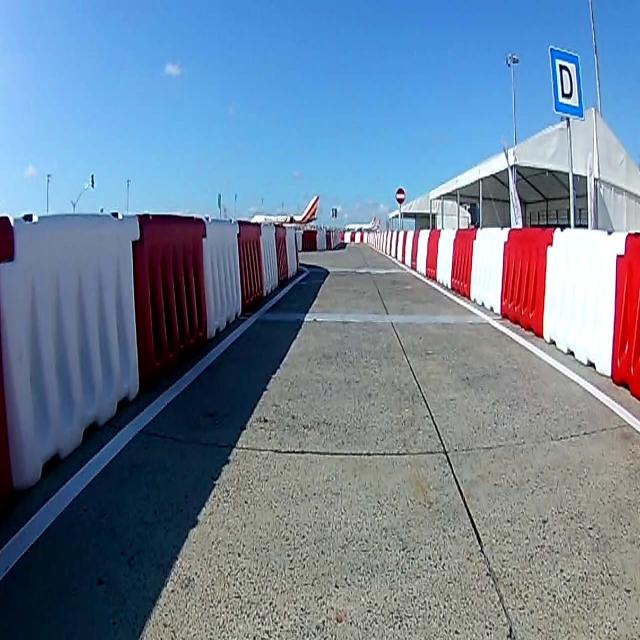durak: (549, 47, 584, 121)
girisyok: (395, 186, 405, 206)
